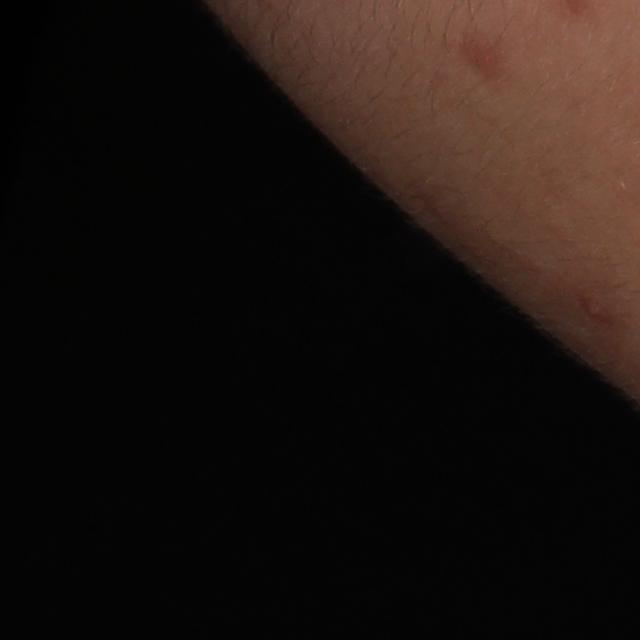papule: (581, 302, 606, 324)
